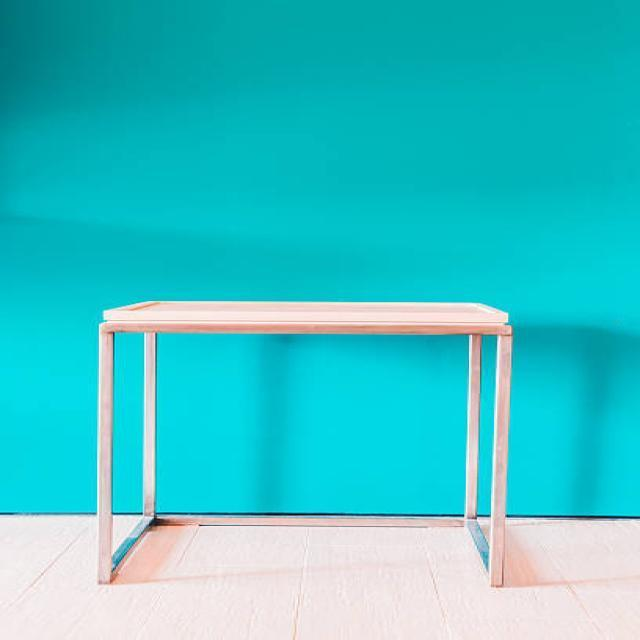table: (96, 299, 514, 587)
